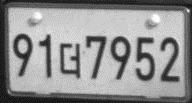1: (36, 34, 53, 79)
2: (159, 36, 181, 84)
5: (134, 36, 156, 81)
7: (85, 34, 107, 79)
9: (12, 33, 34, 78), (109, 35, 131, 80)
더: (58, 41, 82, 78)
